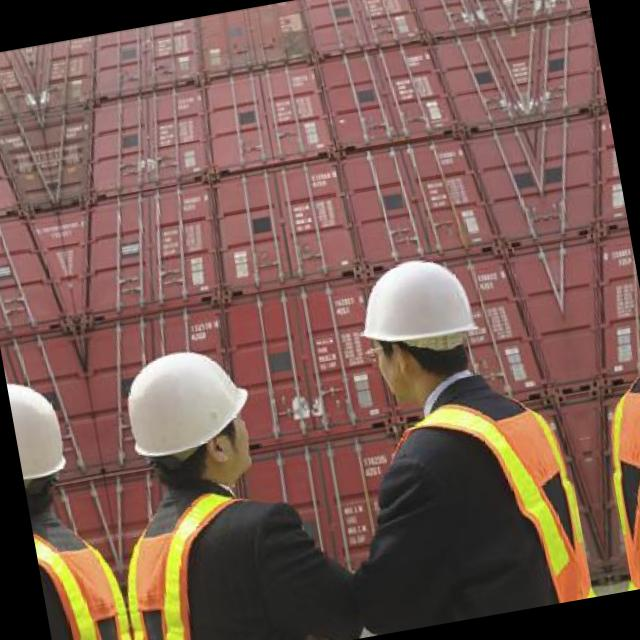helmet: (99, 328, 284, 520), (334, 238, 504, 420), (4, 360, 98, 538)
